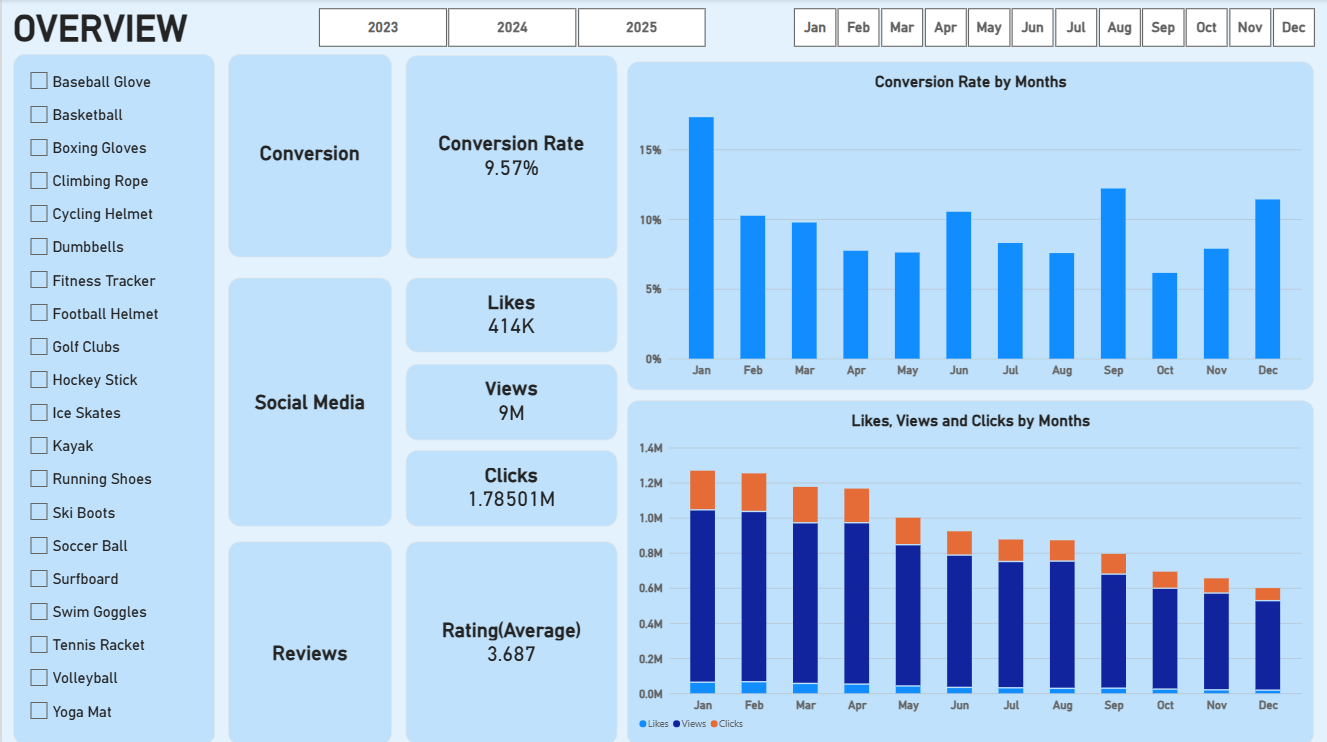

Layout of this report page (visuals, bound fields, positions):
{"tool":"powerbi","page":{"name":"Overview","canvas":[1920,1080],"ordinal":0},"visuals":[{"type":"textbox","box":[16,10,292,80],"z":0},{"type":"slicer","fields":{"Values":["Facts_products.ProductName"]},"box":[16.5,80.3,292.3,1000.3],"z":1000},{"type":"textbox","box":[327.3,80.3,236.7,294.3],"z":2000},{"type":"textbox","box":[327.3,403.4,236.7,360.2],"z":3000},{"type":"textbox","box":[327.3,786.3,236.7,294.3],"z":4000},{"type":"cardVisual","fields":{"Data":["_Calculation_.Conversion Rate"]},"box":[584,82,306,294],"z":5000},{"type":"cardVisual","fields":{"Data":["_Calculation_.Likes"]},"box":[584,404,306,108],"z":6000},{"type":"cardVisual","fields":{"Data":["_Calculation_.Views"]},"box":[584,528,306,110],"z":7000},{"type":"cardVisual","fields":{"Data":["_Calculation_.Clicks"]},"box":[584,654,306,110],"z":8000},{"type":"cardVisual","fields":{"Data":["_Calculation_.Rating(Average)"]},"box":[584,786,306,294],"z":9000},{"type":"slicer","fields":{"Values":["Calendar.Date.Variation.Date Hierarchy.Year"]},"box":[438,10,600,60],"z":10000},{"type":"slicer","fields":{"Values":["Calendar.Months"]},"box":[1126,10,794,60],"z":11000},{"type":"lineStackedColumnComboChart","fields":{"Category":["Calendar.Months"],"Y":["_Calculation_.Likes","_Calculation_.Views","_Calculation_.Clicks"]},"box":[904,580,994,500],"z":11001},{"type":"lineStackedColumnComboChart","fields":{"Category":["Calendar.Months"],"Y":["_Calculation_.Conversion Rate"]},"box":[904,90,994,476],"z":11002}]}

Visuals, with their boxes in screenshot pixels (x1, y1, x2, y2), scaled from the page's 1920x1080 canvas onto the 1327x742 screenshot:
textbox: 11 7 213 62
slicer - Facts_products.ProductName: 11 55 213 741
textbox: 226 55 390 257
textbox: 226 277 390 525
textbox: 226 540 390 741
cardVisual - _Calculation_.Conversion Rate: 404 56 615 258
cardVisual - _Calculation_.Likes: 404 278 615 352
cardVisual - _Calculation_.Views: 404 363 615 438
cardVisual - _Calculation_.Clicks: 404 449 615 525
cardVisual - _Calculation_.Rating(Average): 404 540 615 741
slicer - Calendar.Date.Variation.Date Hierarchy.Year: 303 7 717 48
slicer - Calendar.Months: 778 7 1326 48
lineStackedColumnComboChart - Calendar.Months x _Calculation_.Likes: 625 398 1312 741
lineStackedColumnComboChart - Calendar.Months x _Calculation_.Conversion Rate: 625 62 1312 389
